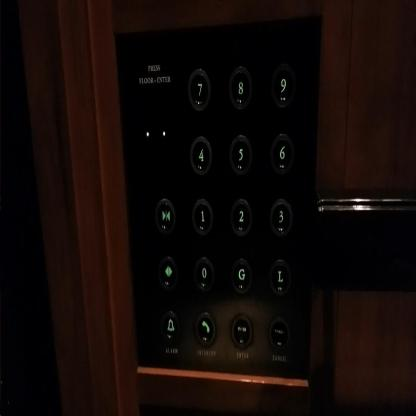0: (193, 253, 215, 293)
1: (190, 197, 214, 235)
2: (230, 197, 252, 237)
3: (269, 198, 293, 237)
4: (188, 133, 213, 176)
5: (228, 131, 253, 178)
6: (268, 131, 294, 178)
7: (186, 67, 212, 113)
8: (228, 67, 253, 111)
9: (270, 66, 294, 109)
G: (229, 254, 252, 295)
L: (269, 256, 292, 296)
alarm: (158, 307, 182, 344)
call: (194, 308, 216, 345)
close: (153, 197, 176, 236)
open: (156, 252, 178, 290)
text: (267, 313, 291, 352), (230, 309, 252, 350)
